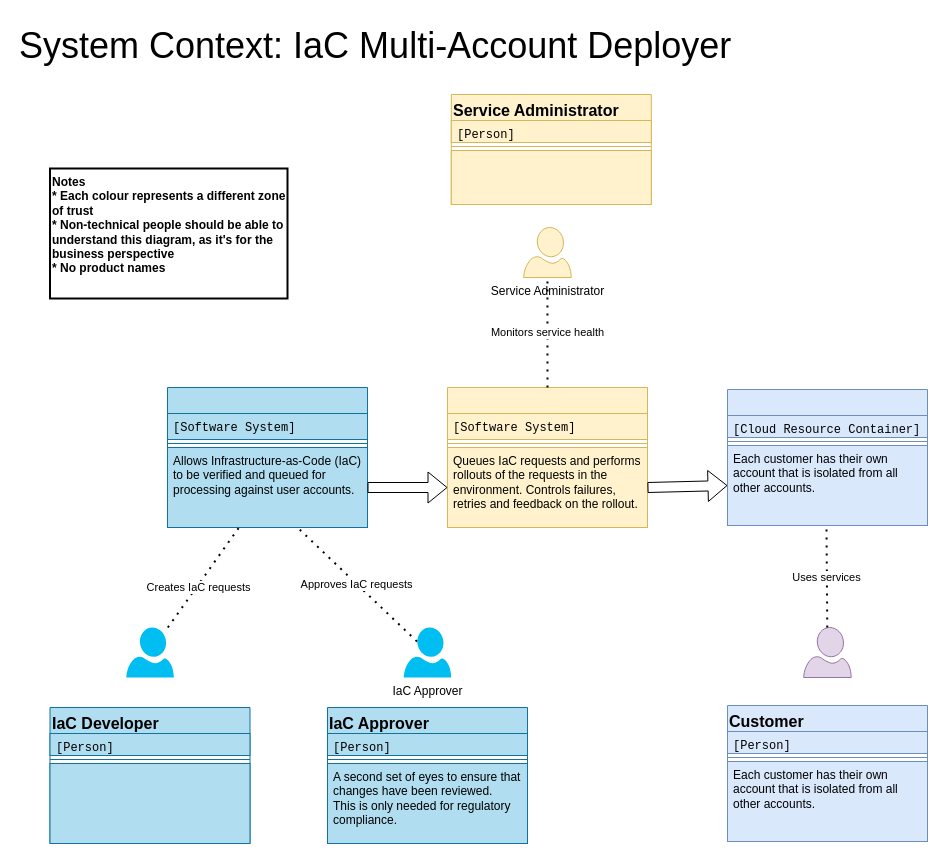
This 945x863 diagram has some shape labels left out. Here are the shapes that lost their labels. From the top down, the box of each, then its label:
(450, 150, 651, 204): Responsible for managing the deployer service and its KPIs.
(166, 386, 368, 528): IaC Pipeline
(446, 386, 648, 528): Deployment Scheduler
(726, 388, 928, 526): Customer Account
(126, 627, 173, 677): IaC Dreamers
(803, 626, 851, 678): Customers
(49, 762, 250, 844): Responsible for creating the IaC code to meet business requirements.
